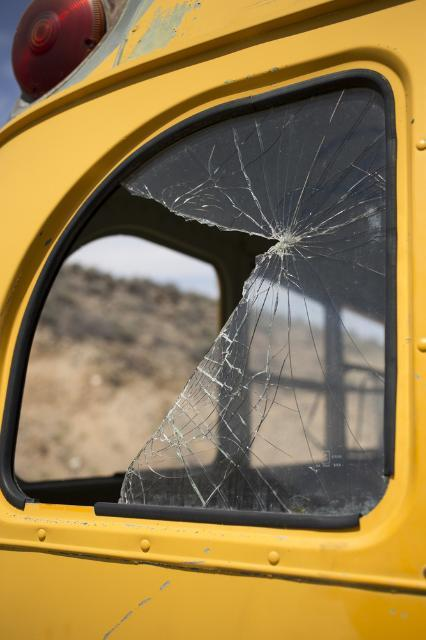glass shatter: (14, 86, 387, 518)
